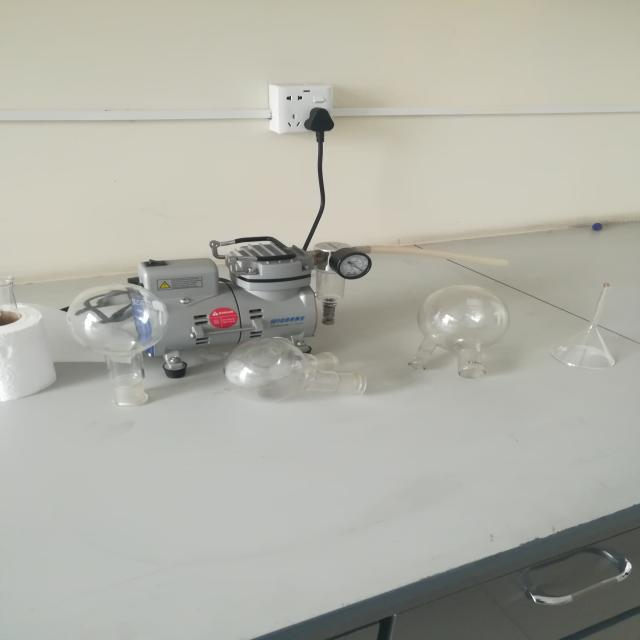Funnel: (549, 263, 628, 395)
Round_Bottom_Flask_Borosilicate_Glass_1_Neck: (41, 260, 192, 440)
Round_Bottom_Flask_Borosilicate_Glass_2_Neck: (401, 260, 533, 393)
Round_Bottom_Flask_Borosilicate_Glass_3_Neck: (207, 289, 390, 425)
